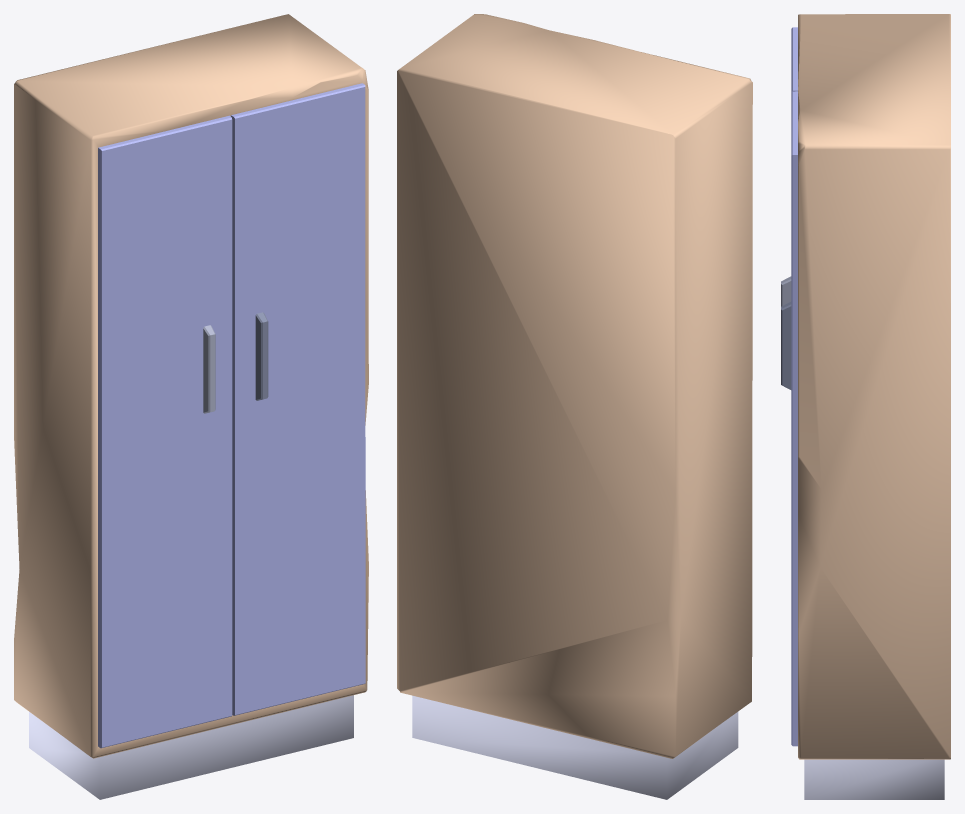
File: Cabinet.FBX
The picture shows the model from 3 angles, left to right: view 1: azimuth 30°, elevation 25°; view 2: azimuth 150°, elevation 25°; view 3: azimuth 270°, elevation 25°; orthographic projection.
Parts seen in each view (by area): view 1: Cabinet_01; view 2: Cabinet_01; view 3: Cabinet_01.
Boxes of the visible parts, bbox=[...] form: Cabinet_01: bbox=[14, 14, 368, 799]; Cabinet_01: bbox=[397, 14, 752, 799]; Cabinet_01: bbox=[781, 14, 950, 799].
Bounding box in the file's own units: 18.67 × 42.9 × 10.03.
